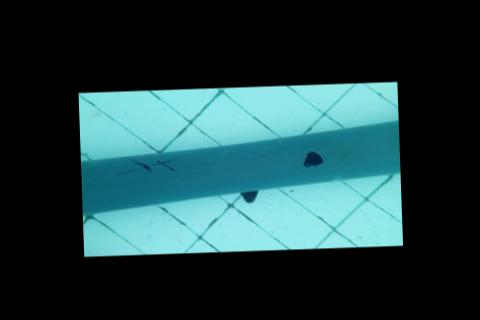kebocoran: (300, 149, 325, 170)
keretakan: (113, 155, 180, 177)
